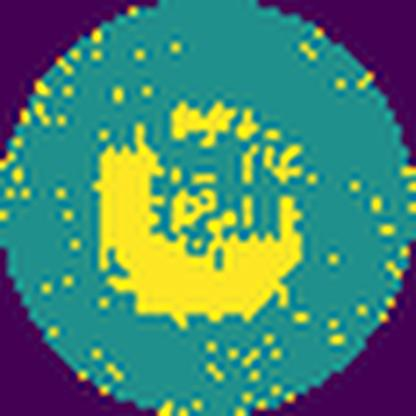Donut: (89, 91, 319, 330)
